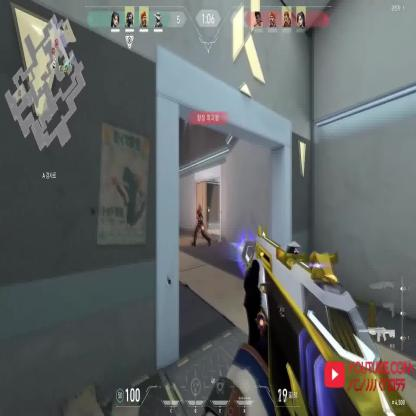enemy: (191, 201, 211, 248)
enemy_head: (198, 205, 202, 214)
